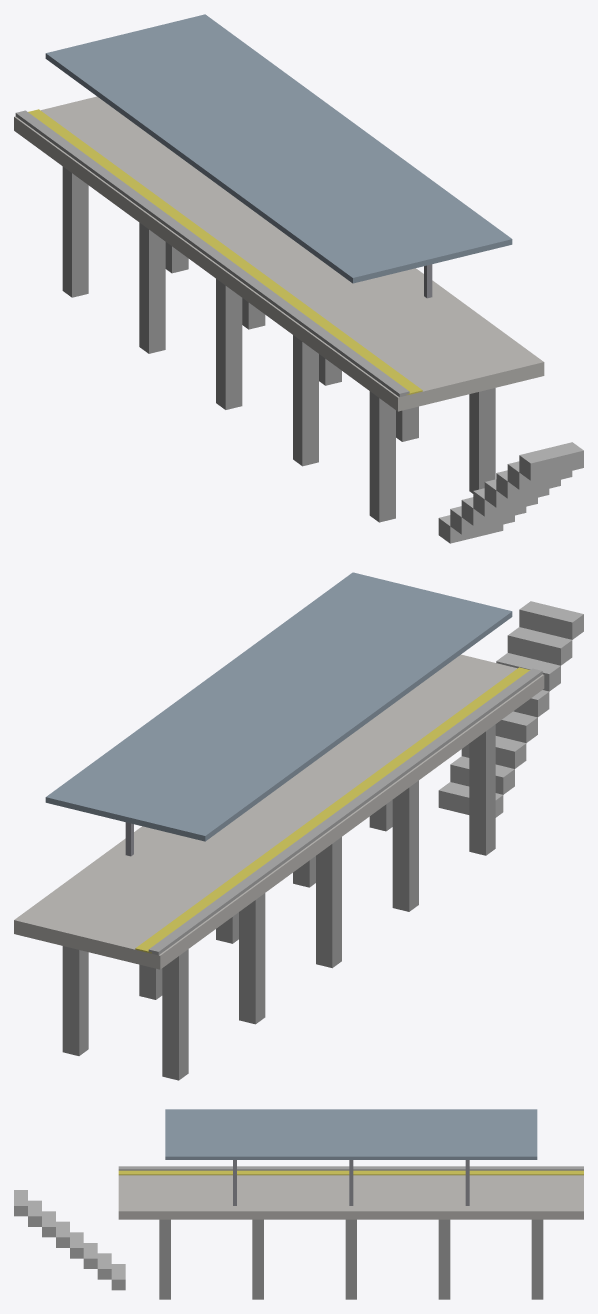
Rendered from station-elevated.glb.
3 views of the same model, one above another, from view 1: azimuth 30°, elevation 25°; view 2: azimuth 150°, elevation 25°; view 3: azimuth 270°, elevation 25° (orthographic). The views are drawn at different scales.
Visible parts, largest first — view 1: station-elevated; view 2: station-elevated; view 3: station-elevated.
Part boxes in pixels (<box>): station-elevated: <box>14,14,583,543</box>; station-elevated: <box>14,572,583,1080</box>; station-elevated: <box>14,1109,583,1299</box>.
Size of the model in its own units: 4.8 by 7.08 by 24.5.
